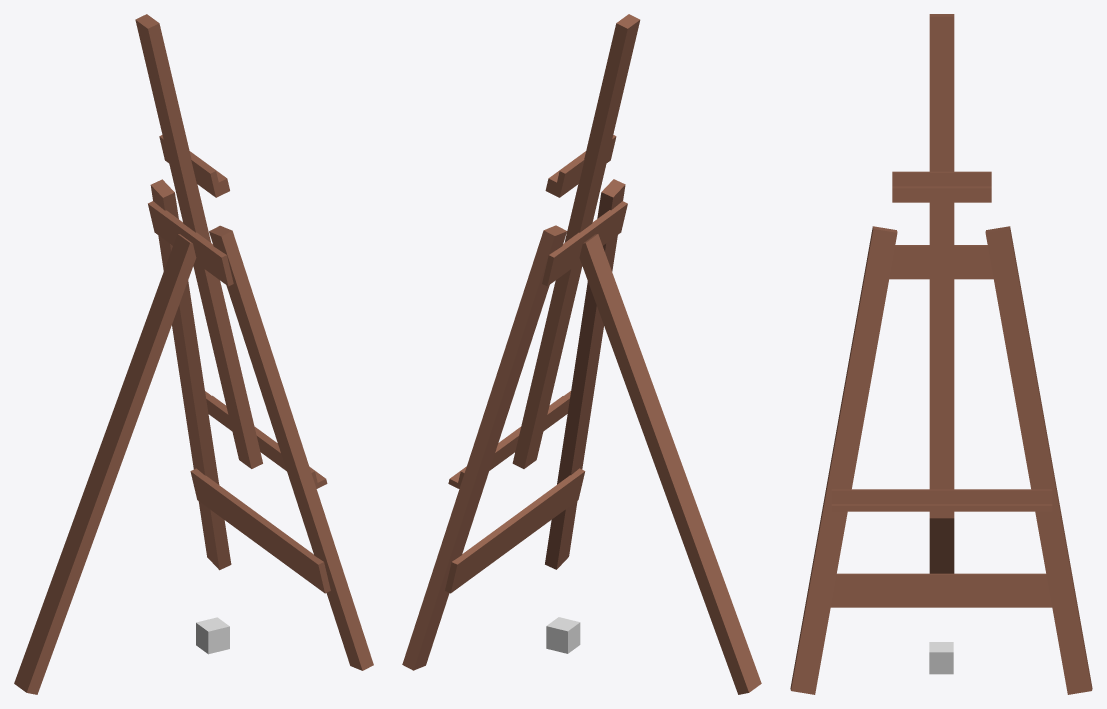
The model's file is easel.fbx.
3 views of the same model, side by side, from view 1: azimuth 30°, elevation 25°; view 2: azimuth 150°, elevation 25°; view 3: azimuth 270°, elevation 25° (orthographic). The views are drawn at different scales.
Parts seen in each view (by area): view 1: Cube.001, Cube.002, Cube.007, Cube.004, Cube.003, Cube.005, Cube, Cube.006; view 2: Cube.001, Cube.002, Cube.007, Cube.004, Cube.003, Cube.005, Cube, Cube.006; view 3: Cube.001, Cube.007, Cube.004, Cube.005, Cube.006, Cube.003, Cube.002, Cube.
Boxes of the visible parts, <box> form: Cube.001: <box>150,179,373,670</box>; Cube.002: <box>14,234,196,694</box>; Cube.007: <box>135,14,262,468</box>; Cube.004: <box>190,468,330,593</box>; Cube.003: <box>148,201,233,286</box>; Cube.005: <box>205,391,327,488</box>; Cube: <box>196,617,229,654</box>; Cube.006: <box>159,135,229,197</box>; Cube.001: <box>402,179,625,670</box>; Cube.002: <box>579,234,761,694</box>; Cube.007: <box>512,14,640,468</box>; Cube.004: <box>445,468,585,593</box>; Cube.003: <box>542,201,627,286</box>; Cube.005: <box>448,391,570,488</box>; Cube: <box>546,617,580,653</box>; Cube.006: <box>545,135,616,197</box>; Cube.001: <box>790,226,1092,694</box>; Cube.007: <box>929,14,954,518</box>; Cube.004: <box>830,573,1052,607</box>; Cube.005: <box>831,489,1052,511</box>; Cube.006: <box>892,171,991,202</box>; Cube.003: <box>889,245,993,279</box>; Cube.002: <box>929,518,954,573</box>; Cube: <box>929,642,953,674</box>.
Bounding box in the file's own units: 627 × 1396 × 612.
